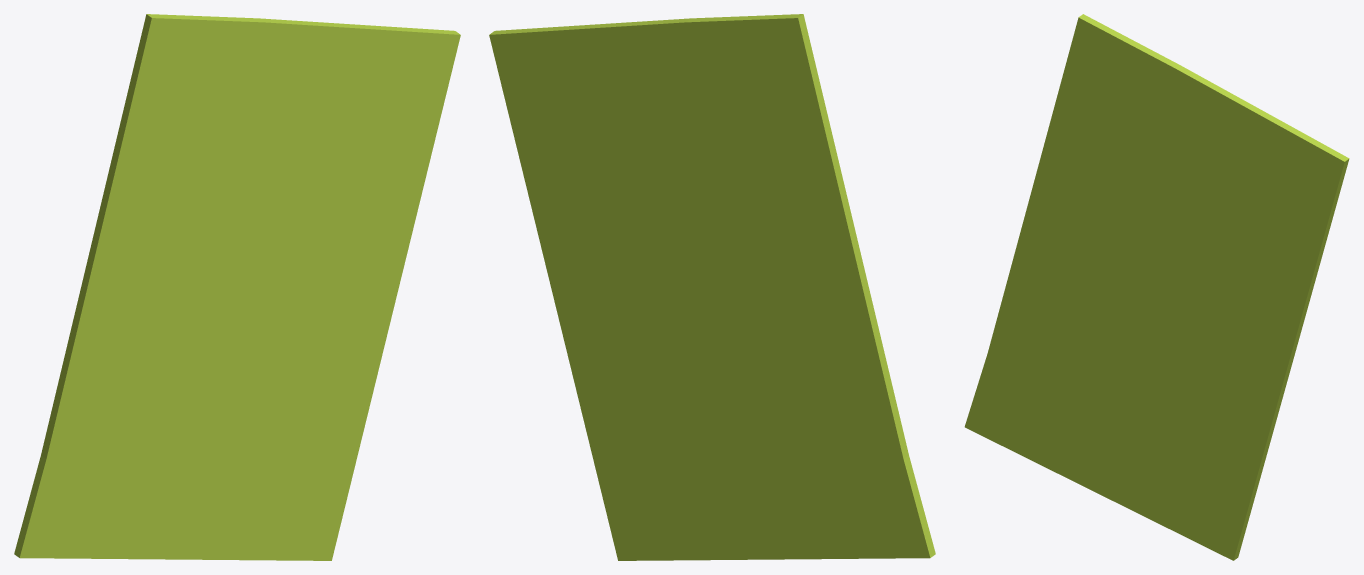
The picture shows the model from 3 angles, left to right: view 1: azimuth 30°, elevation 25°; view 2: azimuth 150°, elevation 25°; view 3: azimuth 330°, elevation 25°; orthographic projection. The views are drawn at different scales.
Parts seen in each view (by area): view 1: osm-way27917482-F2; view 2: osm-way27917482-F2; view 3: osm-way27917482-F2.
Boxes of the visible parts, <box> form: osm-way27917482-F2: <box>14,14,460,560</box>; osm-way27917482-F2: <box>489,14,935,560</box>; osm-way27917482-F2: <box>964,14,1349,560</box>.
Size of the model in its own units: 6.96 by 8.84 by 0.15.
